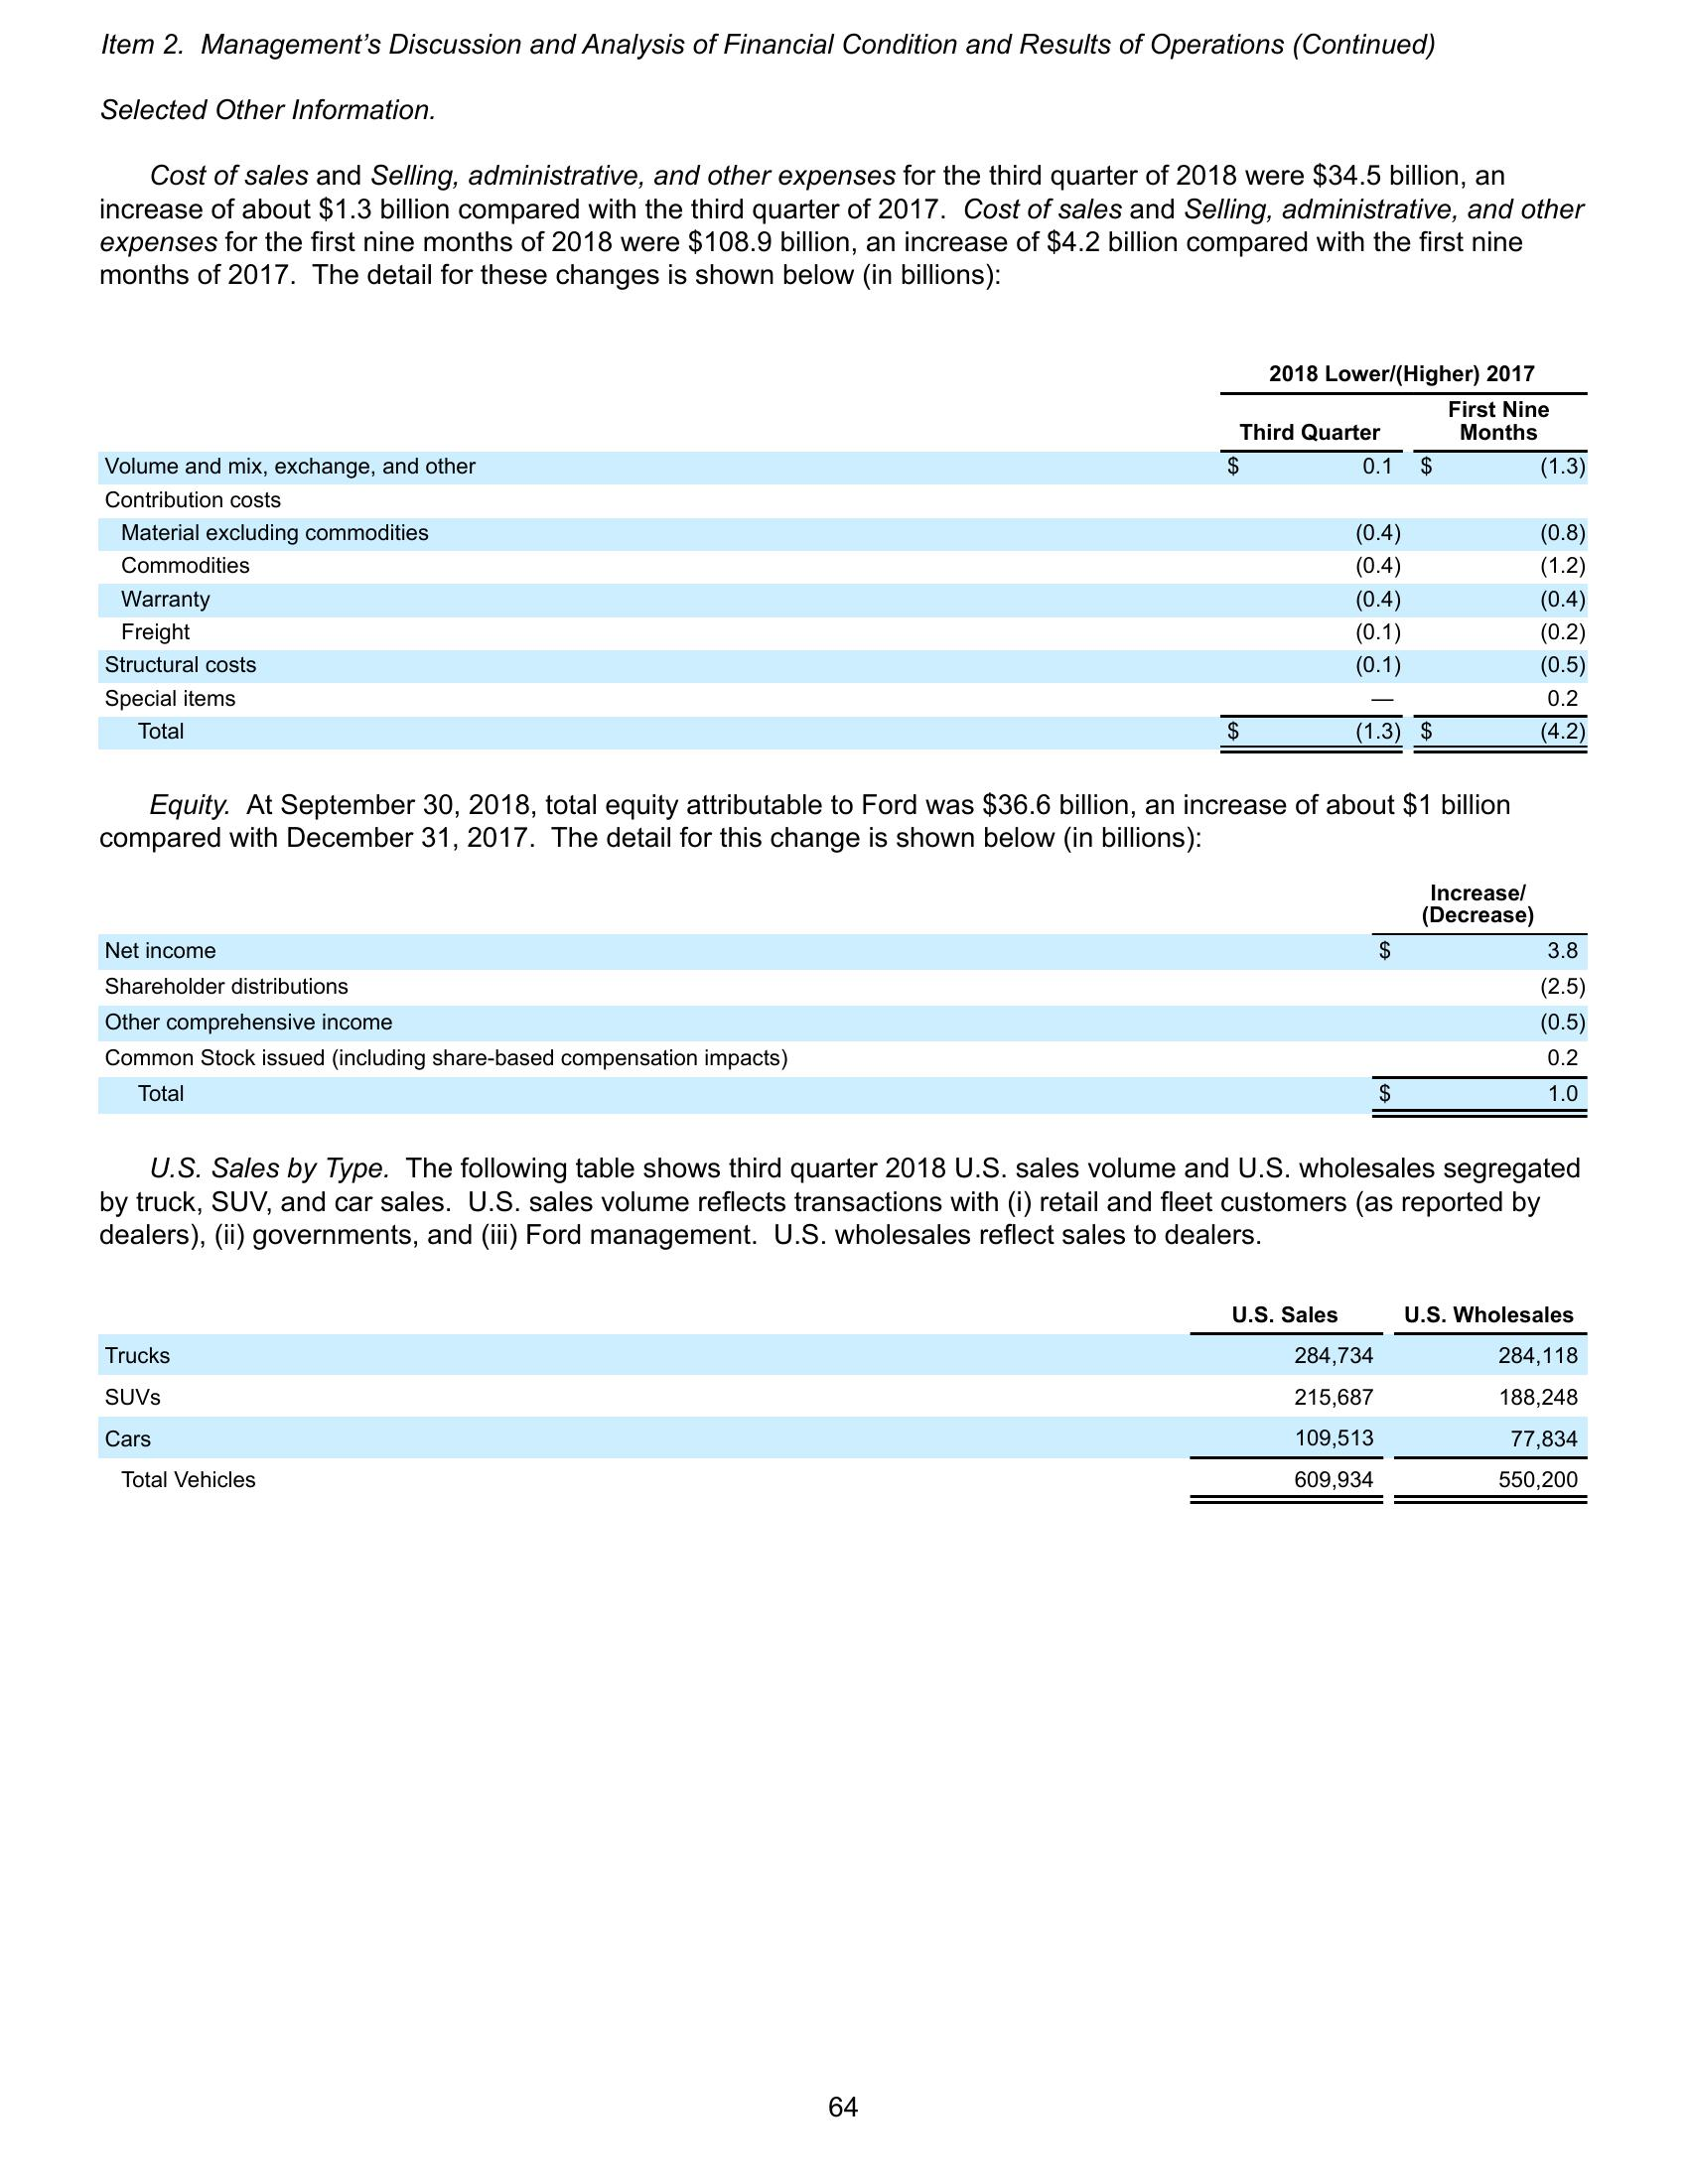table: (89, 358, 1596, 759), (94, 876, 1596, 1119), (92, 1292, 1592, 1512)
